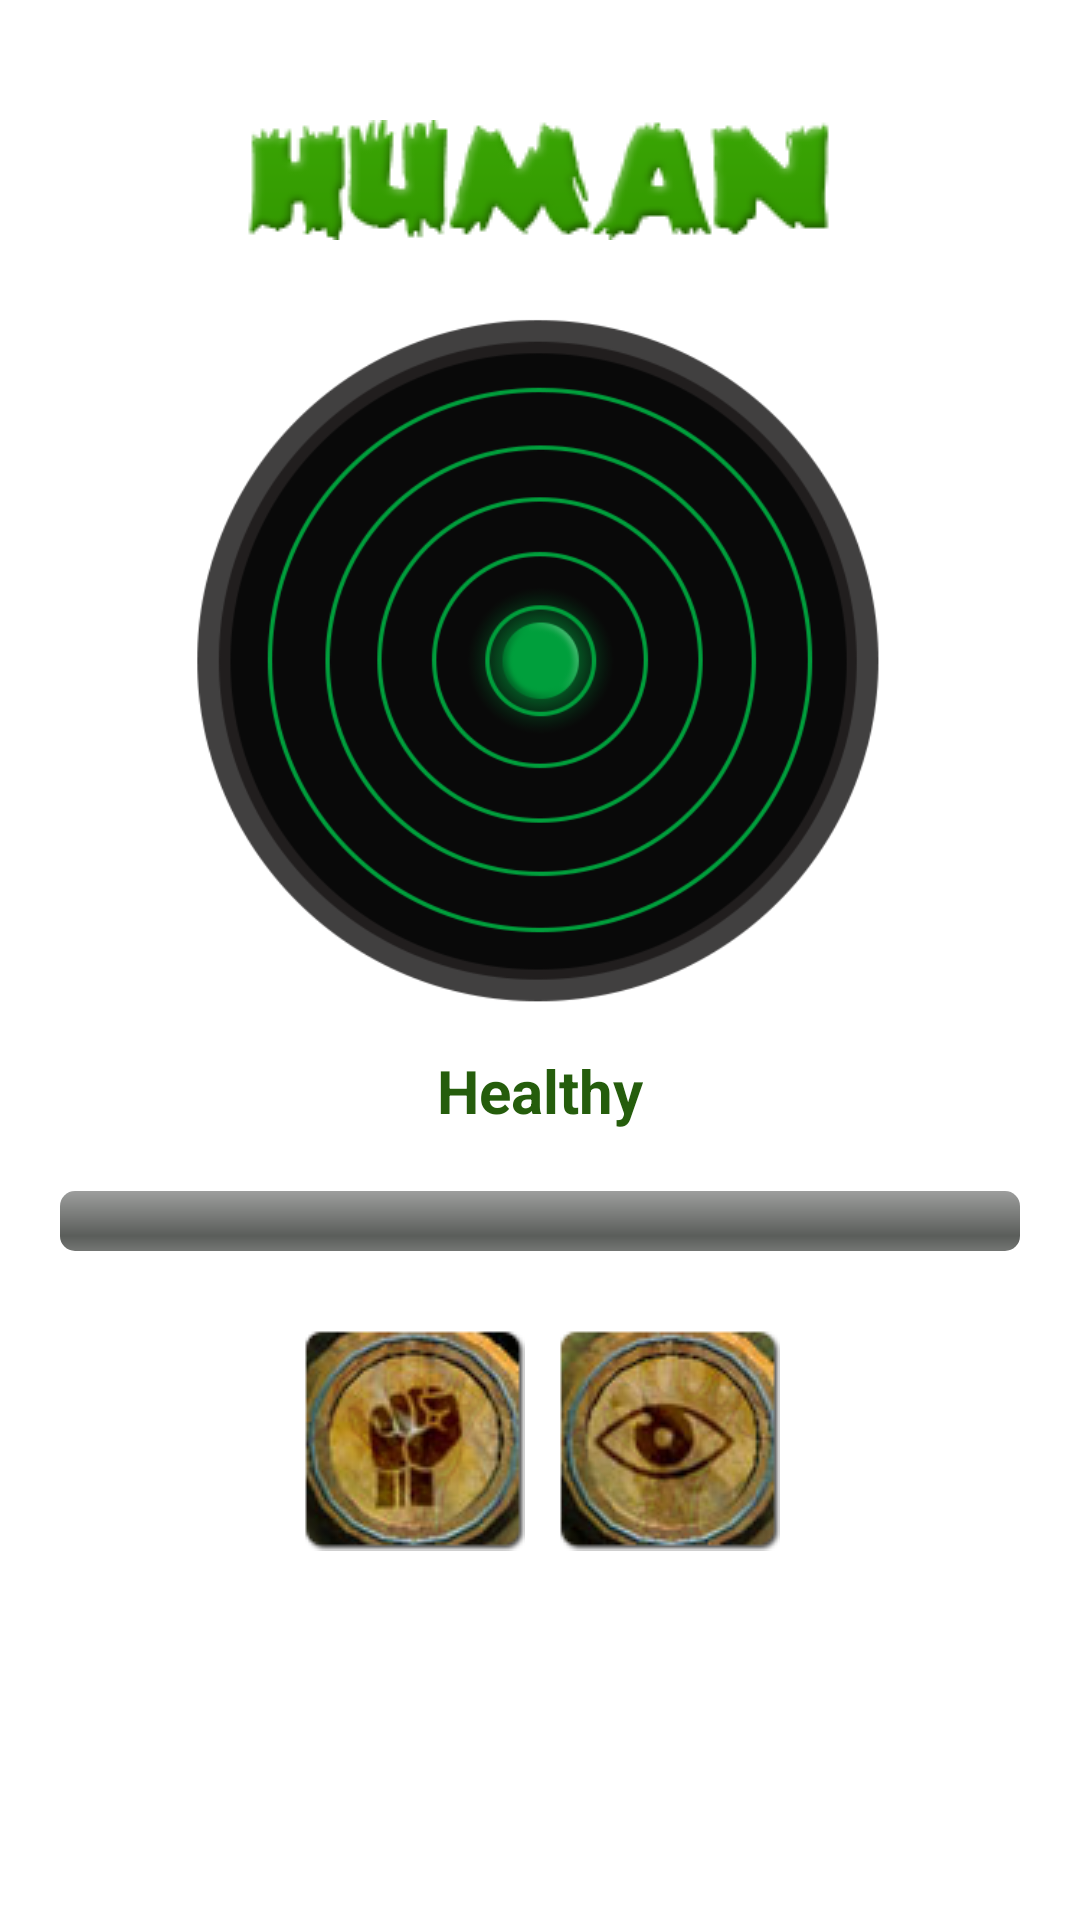

Where icons sit on this 1080*1920 app screen, as (x1, y1, x2, y2):
perception: (560, 1331, 780, 1551)
strenght: (305, 1331, 525, 1551)
